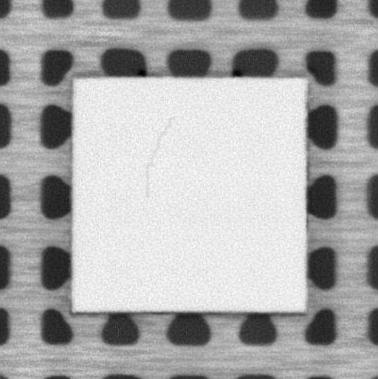DIE_CRACK: (144, 116, 174, 199)
